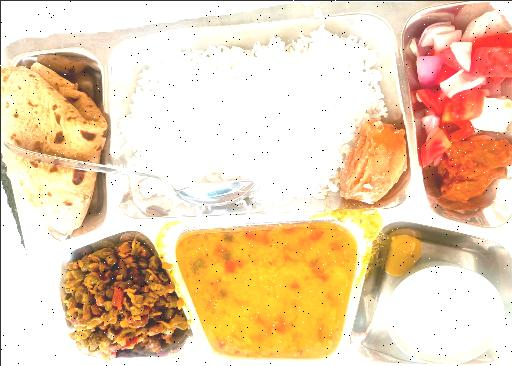Curd: (378, 262, 504, 364)
Dal: (195, 226, 349, 350)
Pickle: (441, 137, 512, 215)
Rice: (112, 27, 396, 205)
Roti: (0, 56, 108, 237)
Salad: (406, 8, 512, 132)
Sweet: (331, 114, 410, 202)
Vegetable: (62, 242, 178, 352)
